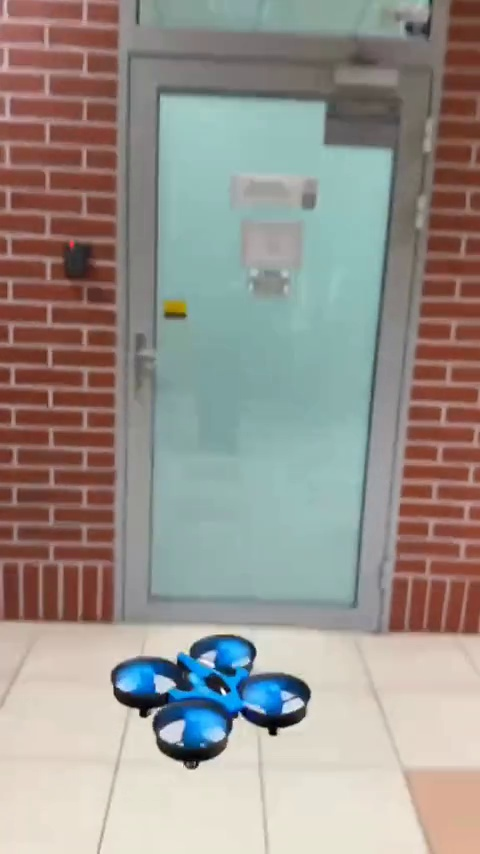drone: (114, 635, 310, 764)
